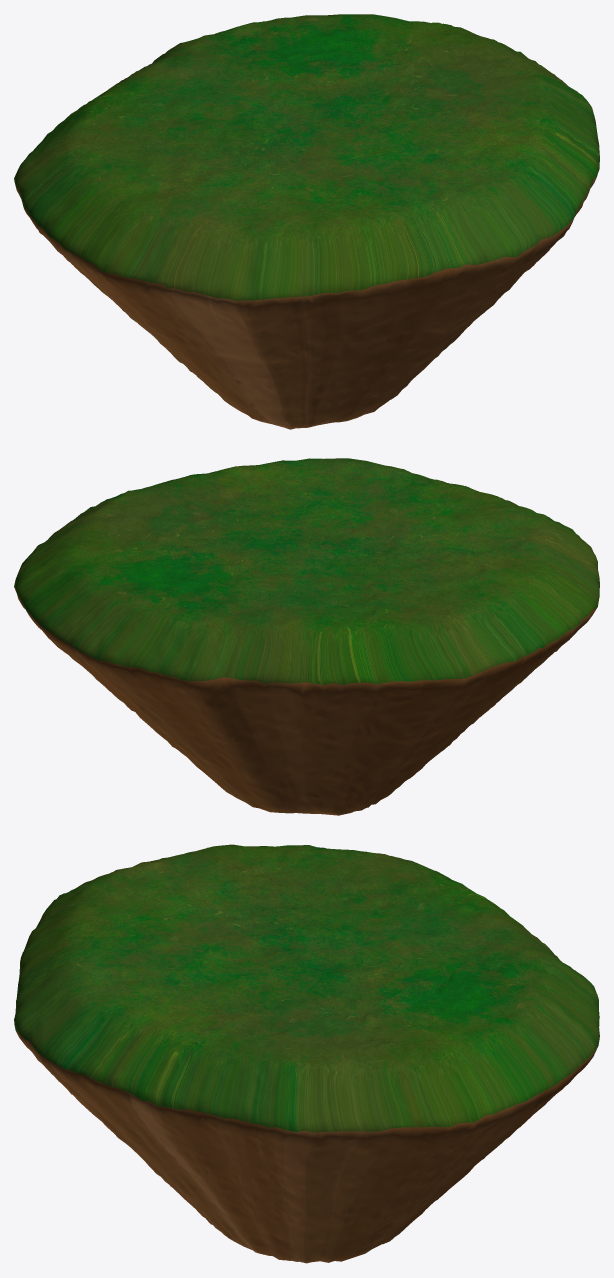
Rendered from ilha1.fbx.
The picture shows the model from 3 angles, top to bottom: view 1: azimuth 30°, elevation 25°; view 2: azimuth 150°, elevation 25°; view 3: azimuth 270°, elevation 25°; orthographic projection. The views are drawn at different scales.
Visible parts, largest first — view 1: polySurface10; view 2: polySurface10; view 3: polySurface10.
Boxes of the visible parts, left/top/right/bottom form: polySurface10: left=14, top=14, right=599, bottom=429; polySurface10: left=14, top=458, right=599, bottom=815; polySurface10: left=14, top=844, right=599, bottom=1263.
Bounding box in the file's own units: 1.65 × 0.8097 × 1.52.
2 materials, 2 textured.
